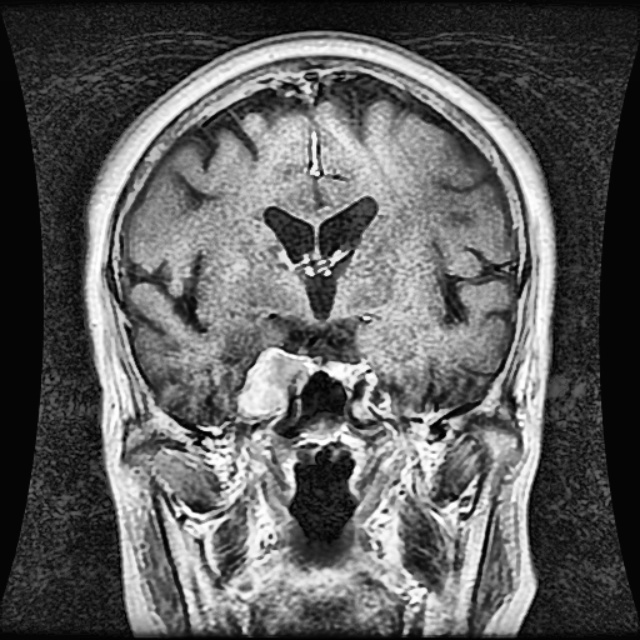Glioma: (238, 344, 310, 418)
